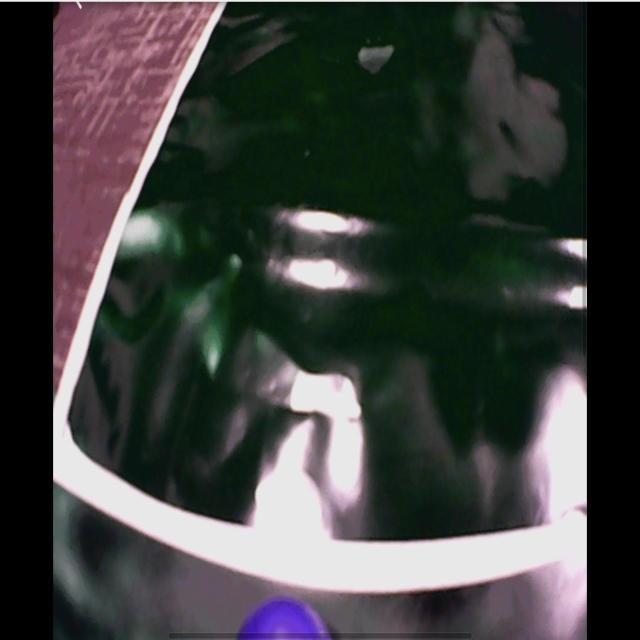ball: (238, 599, 332, 640)
